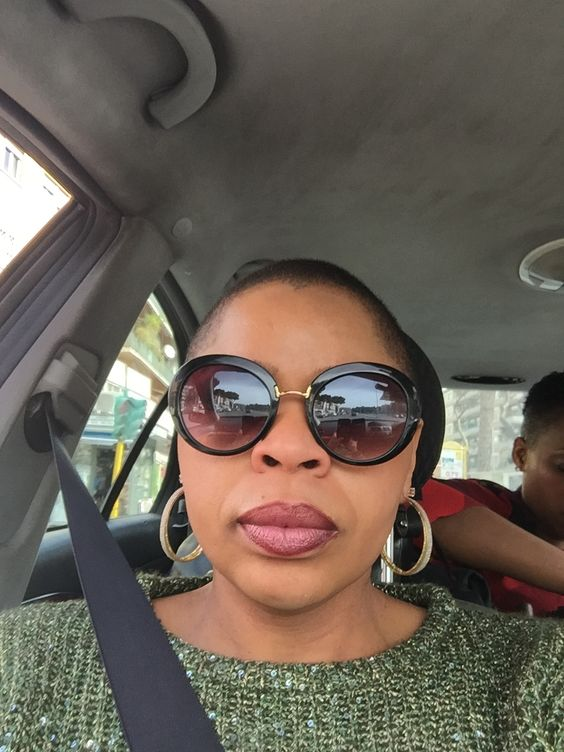sunglasses: (178, 367, 403, 455)
